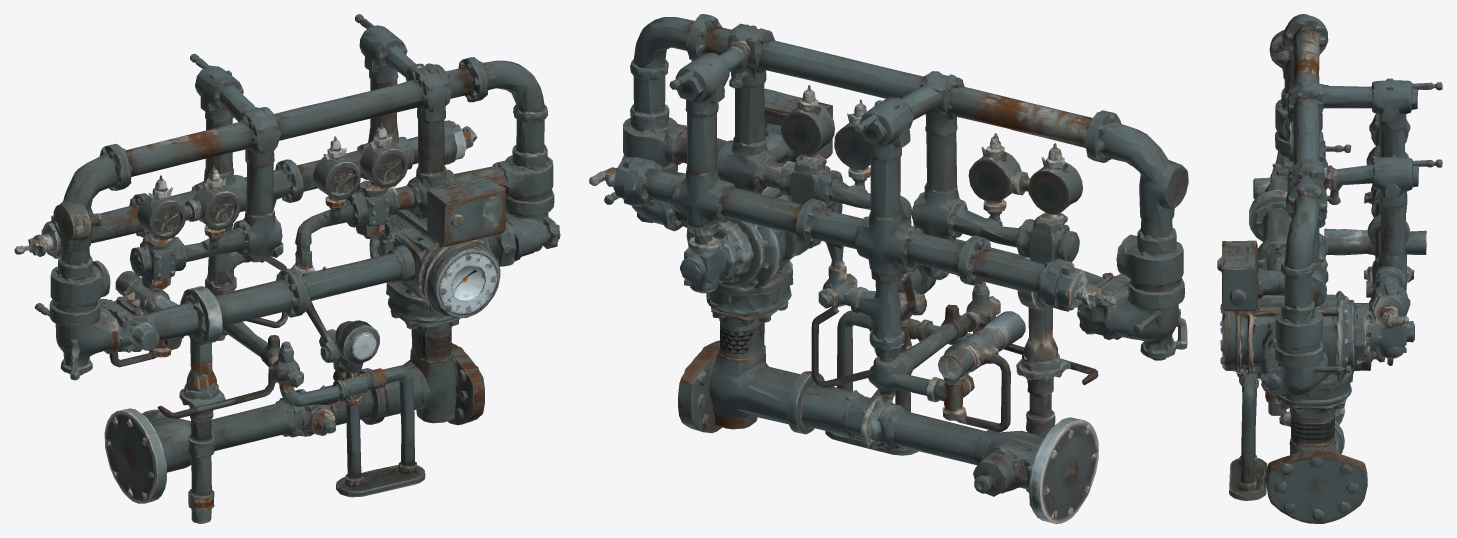
The model's file is prop_pipes.glb.
The picture shows the model from 3 angles, left to right: view 1: azimuth 30°, elevation 25°; view 2: azimuth 150°, elevation 25°; view 3: azimuth 270°, elevation 25°; orthographic projection. The views are drawn at different scales.
Bounding box in the file's own units: 1.9 × 1.4 × 0.781.
Materials: 1 (1 with a texture image).
